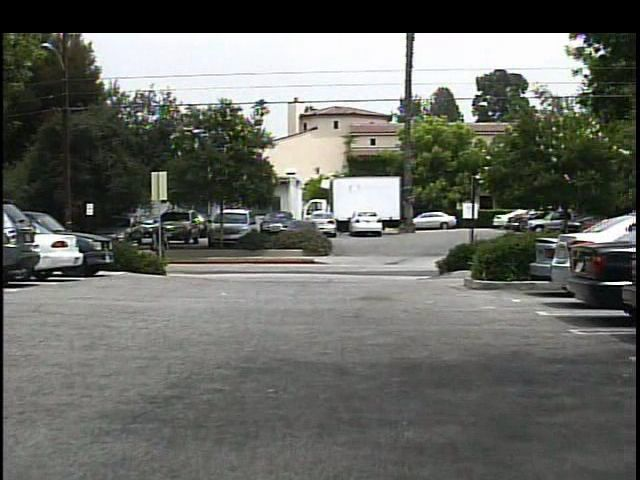person: (149, 217, 174, 275)
